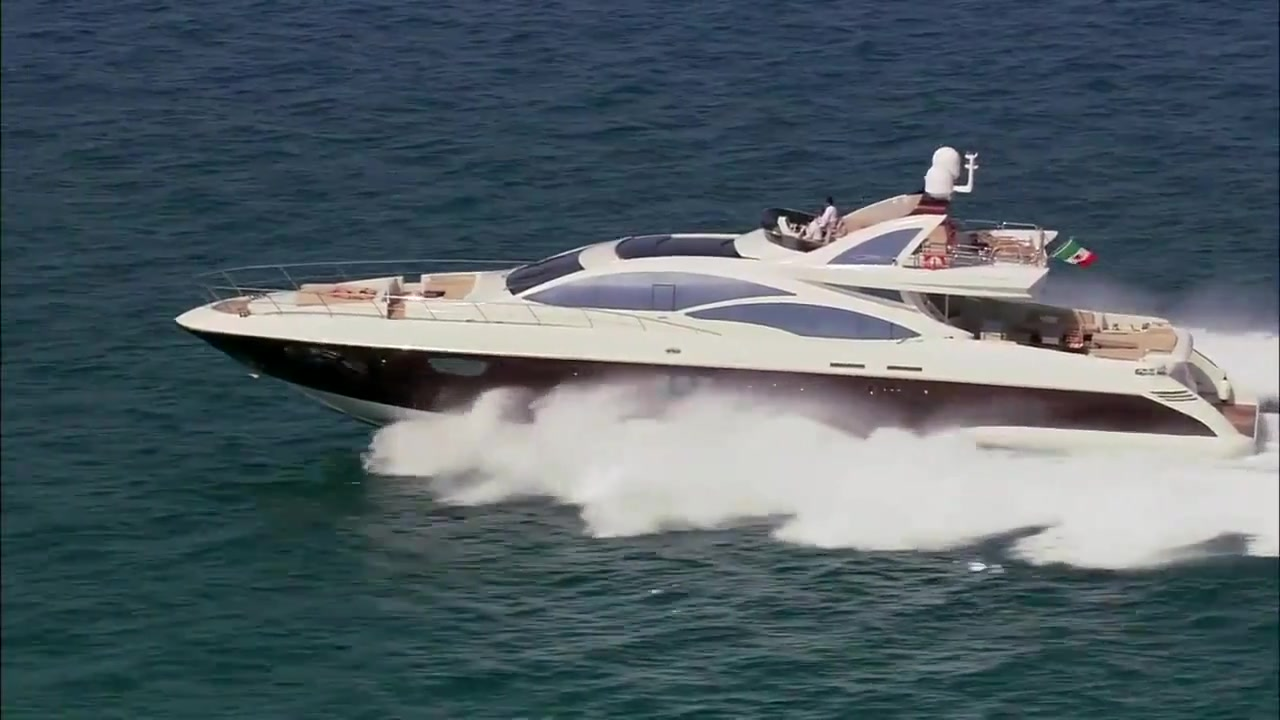boat: (171, 146, 1268, 466)
